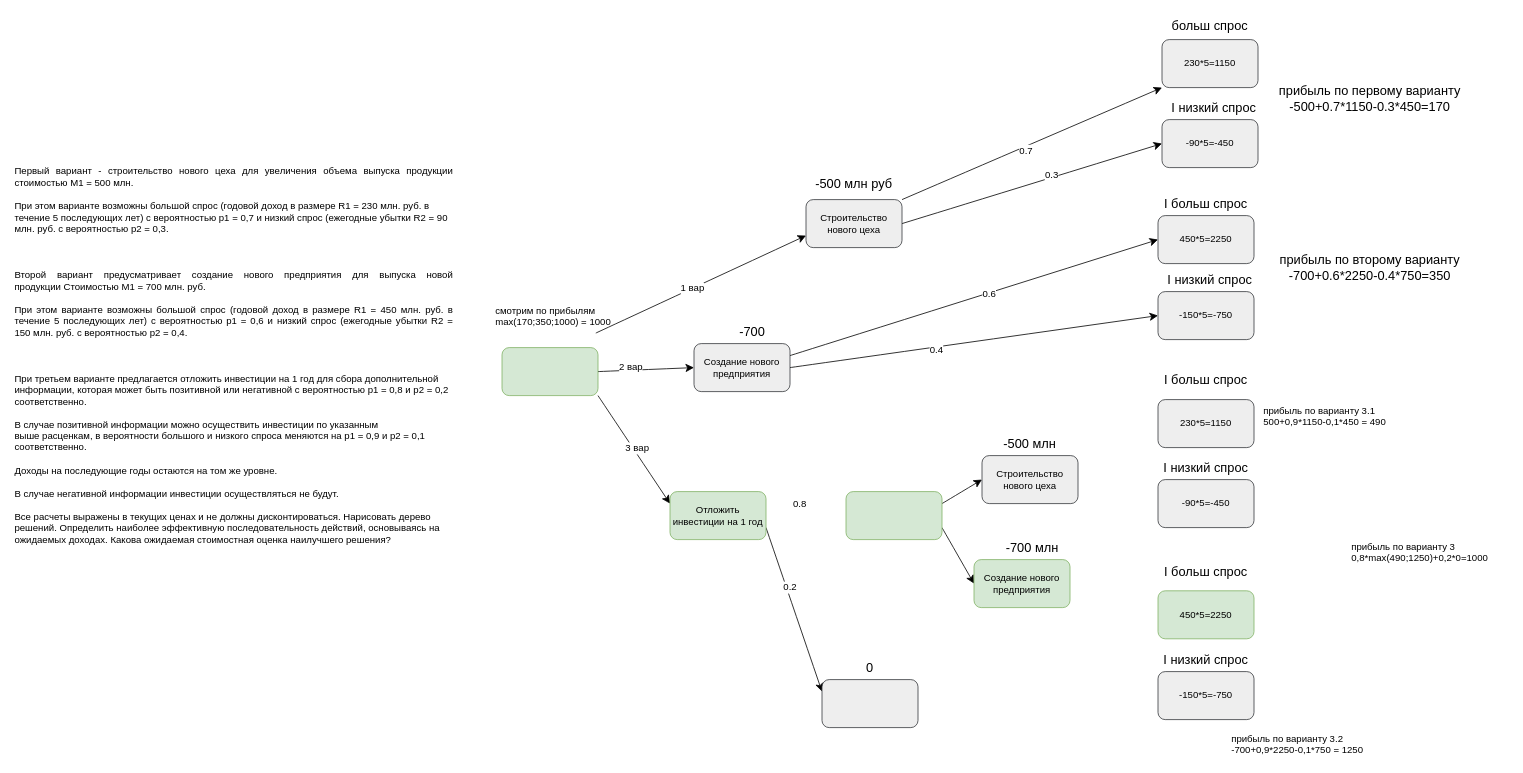
The diagram is 1523 pixels wide and 773 high, and some of its shapes have lost their labels. Each missing label, with the box of its shape:
Негативный прогноз: (821, 679, 918, 728)
Позитивный прогноз: (845, 491, 942, 540)
Рассмотрение вариантов: (501, 347, 598, 396)
